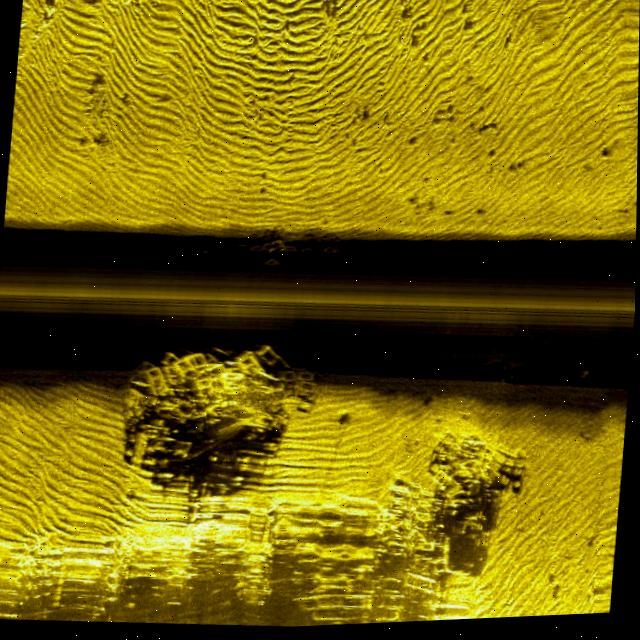artificial reef: (114, 341, 322, 474), (374, 425, 505, 574), (222, 228, 340, 284)
